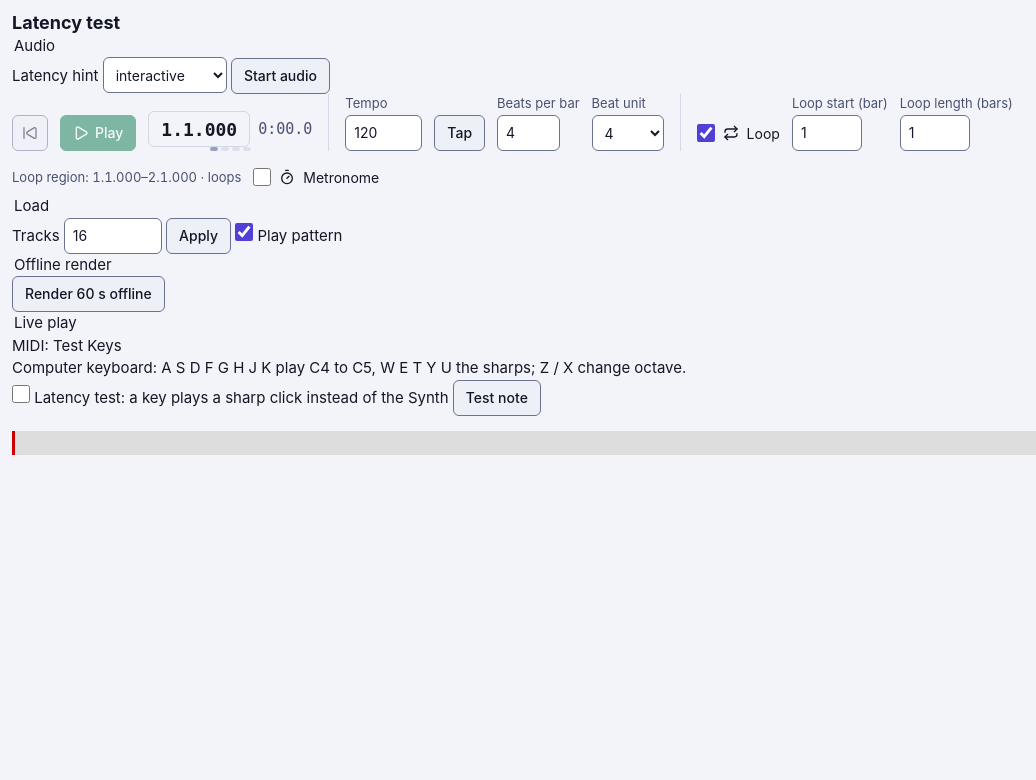
Scenario: starting opens the output with 16 Tracks and the pattern playing
Click the button "Start audio".
click(280, 76)  # box [231,58,330,94]
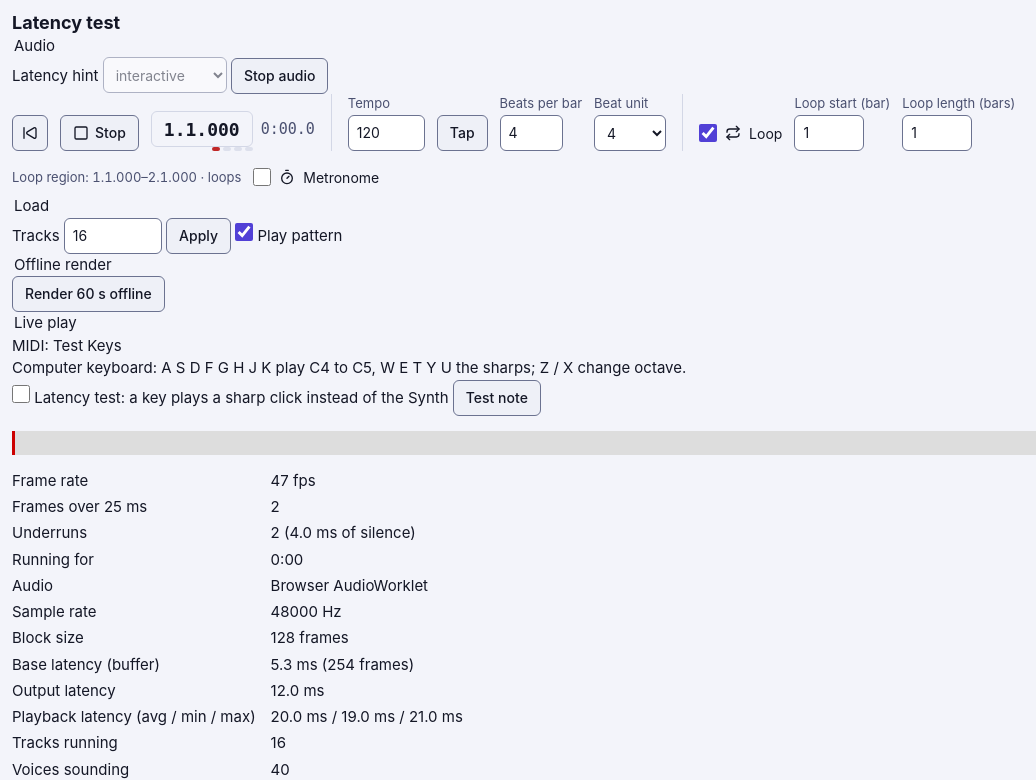
Result: the button "Stop audio" is shown at [231,58,328,94]
